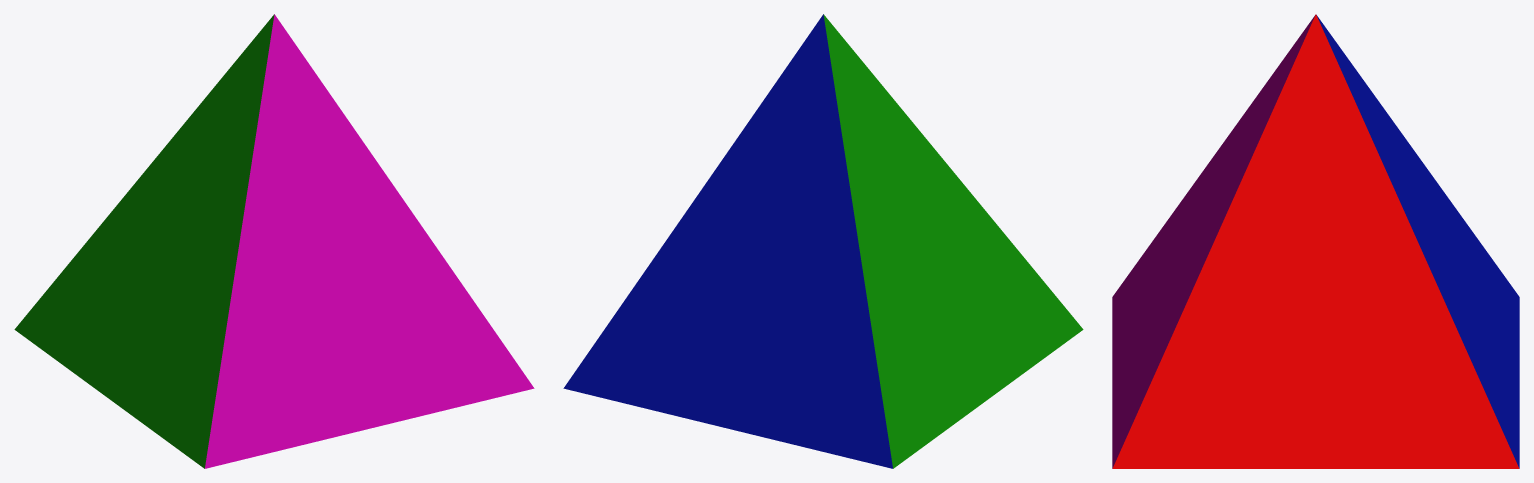
The model's file is Dev Pyramid.FBX.
3 renders of one model, left to right at view 1: azimuth 30°, elevation 25°; view 2: azimuth 150°, elevation 25°; view 3: azimuth 270°, elevation 25°, orthographic. The views are drawn at different scales.
Parts seen in each view (by area): view 1: Pyramid001; view 2: Pyramid001; view 3: Pyramid001.
Part boxes in pixels (x1=…): Pyramid001: x1=14, y1=14, x2=534, y2=468; Pyramid001: x1=563, y1=14, x2=1083, y2=468; Pyramid001: x1=1112, y1=14, x2=1519, y2=468.
Size of the model in its own units: 80 by 80 by 80.
